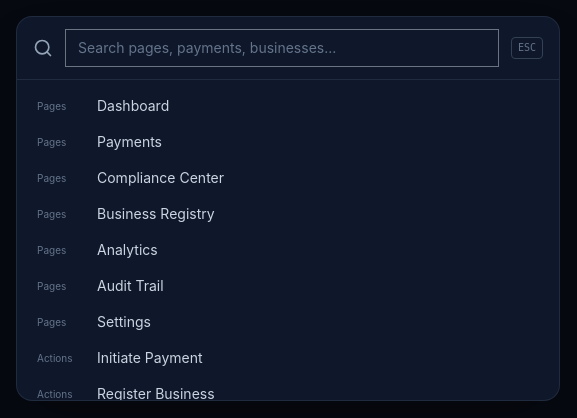
Test: SearchOverlay › filters search items based on query
This screenshot has width=577, height=418.
Type "audit" into the field with placeholder "Search pages, payments, businesses..." at (282, 48), box x1=65 y1=29 x2=499 y2=67
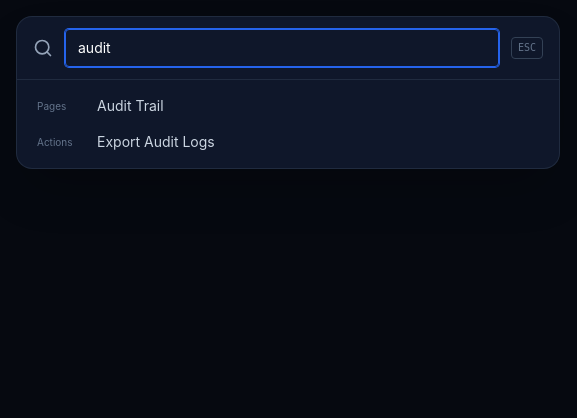
Expected: the link "Pages Audit Trail" is shown, x1=37 y1=97 x2=164 y2=114
Result: the link "Dashboard" is gone
